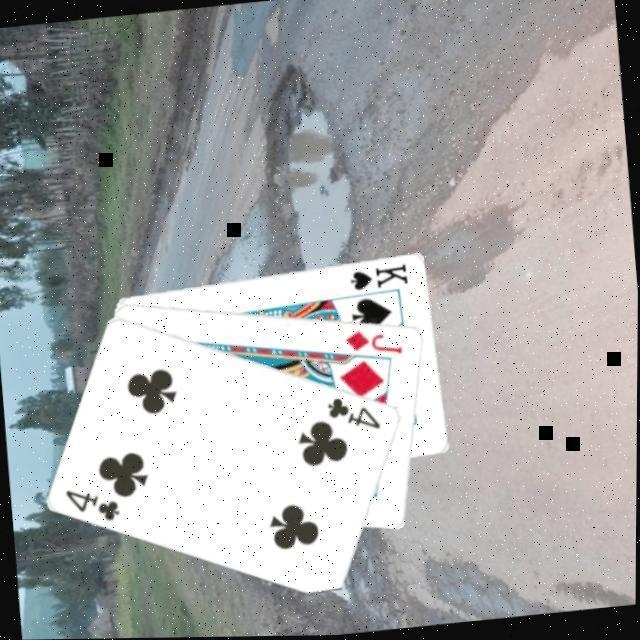4C: (62, 482, 124, 529), (323, 391, 383, 439)
JD: (340, 324, 405, 364)
KS: (345, 261, 411, 295)
